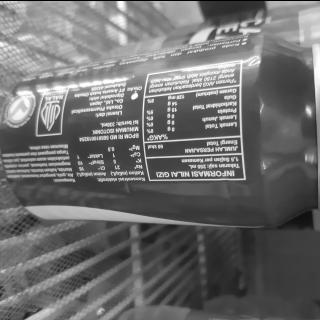alumunium_can: (3, 11, 320, 242)
